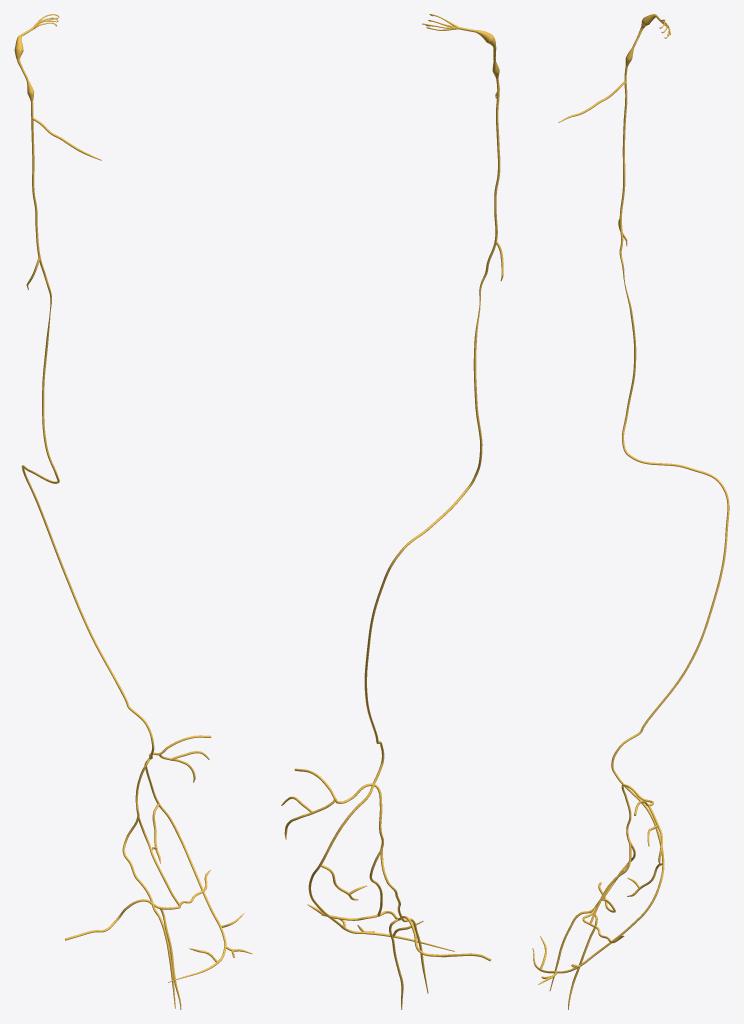
File: nervoso-vagus-nerve-x-r.glb
The picture shows the model from 3 angles, left to right: view 1: azimuth 30°, elevation 25°; view 2: azimuth 150°, elevation 25°; view 3: azimuth 270°, elevation 25°; orthographic projection. The views are drawn at different scales.
Visible parts, largest first — view 1: Vagus nerve (X).r; view 2: Vagus nerve (X).r; view 3: Vagus nerve (X).r.
Boxes of the visible parts, bbox=[...] form: Vagus nerve (X).r: bbox=[14, 14, 252, 1009]; Vagus nerve (X).r: bbox=[281, 14, 503, 1009]; Vagus nerve (X).r: bbox=[532, 14, 729, 1009].
Bounding box in the file's own units: 0.0988 × 0.4709 × 0.0886.
